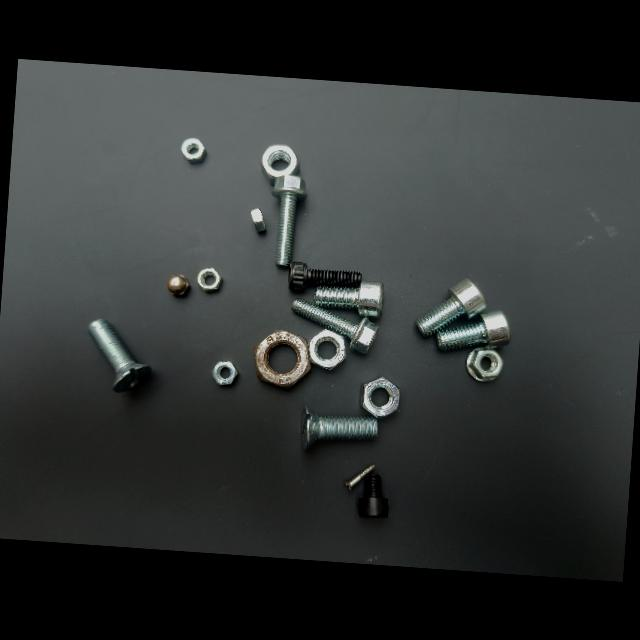bolt: (291, 298, 378, 353), (88, 319, 151, 392), (415, 279, 486, 337), (301, 406, 377, 450), (272, 174, 306, 267), (433, 310, 509, 351), (314, 280, 383, 318), (288, 261, 361, 291), (358, 471, 388, 517), (344, 464, 375, 491)
nuts: (254, 330, 310, 388), (261, 144, 299, 185), (361, 377, 399, 417), (308, 329, 345, 369), (466, 347, 503, 381), (180, 138, 206, 164), (212, 361, 239, 385), (197, 268, 222, 292), (166, 274, 191, 297), (250, 208, 266, 234)
